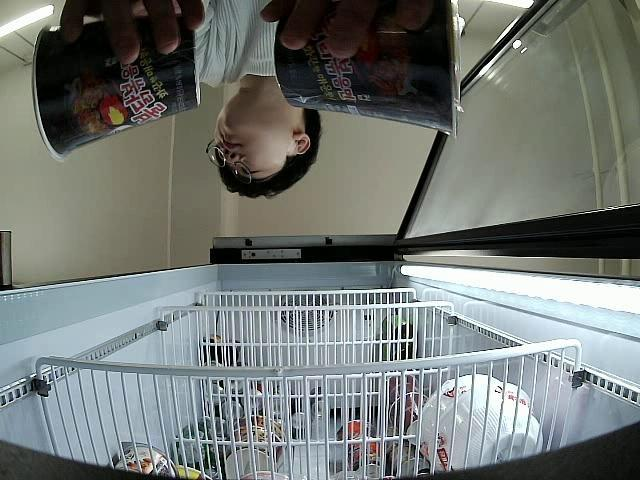08_buldak_S: (272, 0, 460, 140), (32, 15, 202, 163)
